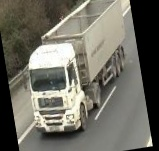truck: (17, 0, 140, 140)
